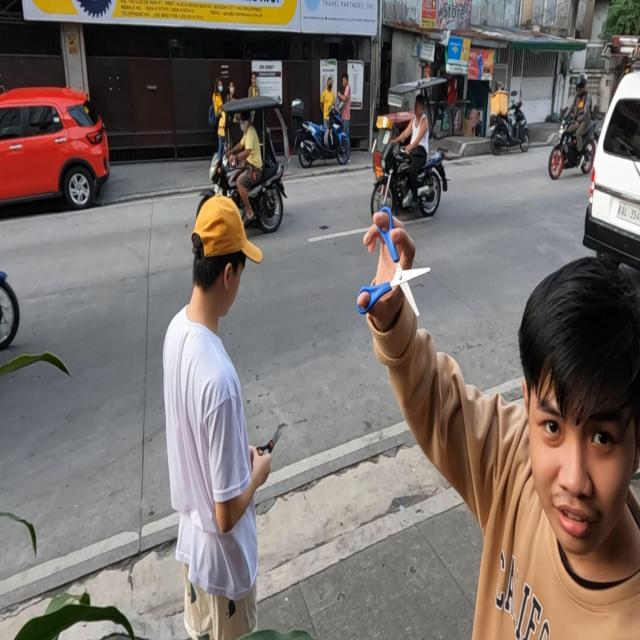scissor: (357, 206, 431, 317), (256, 426, 282, 458)
